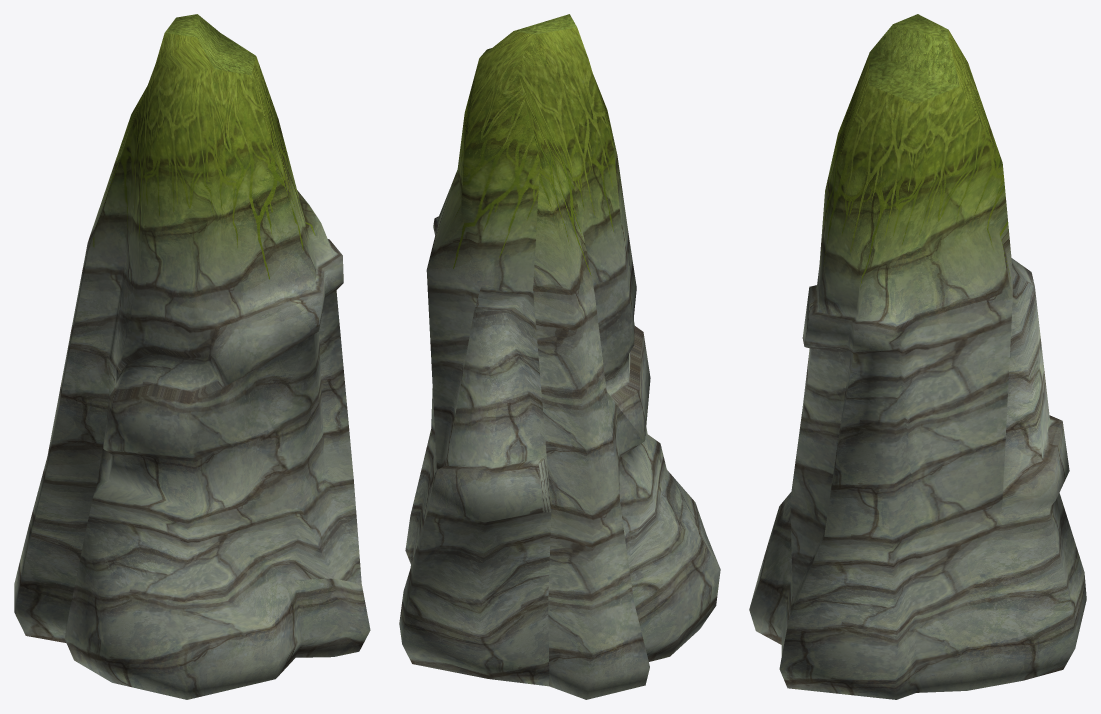
File: beach rock.FBX
3 views of the same model, side by side, from view 1: azimuth 30°, elevation 25°; view 2: azimuth 150°, elevation 25°; view 3: azimuth 270°, elevation 25° (orthographic).
Visible parts, largest first — view 1: beach rock; view 2: beach rock; view 3: beach rock.
Boxes of the visible parts, x1,y1,x2,y2 form: beach rock: [14, 14, 370, 699]; beach rock: [399, 14, 720, 699]; beach rock: [749, 14, 1086, 699].
Bounding box in the file's own units: 10.68 × 21.21 × 10.52.
